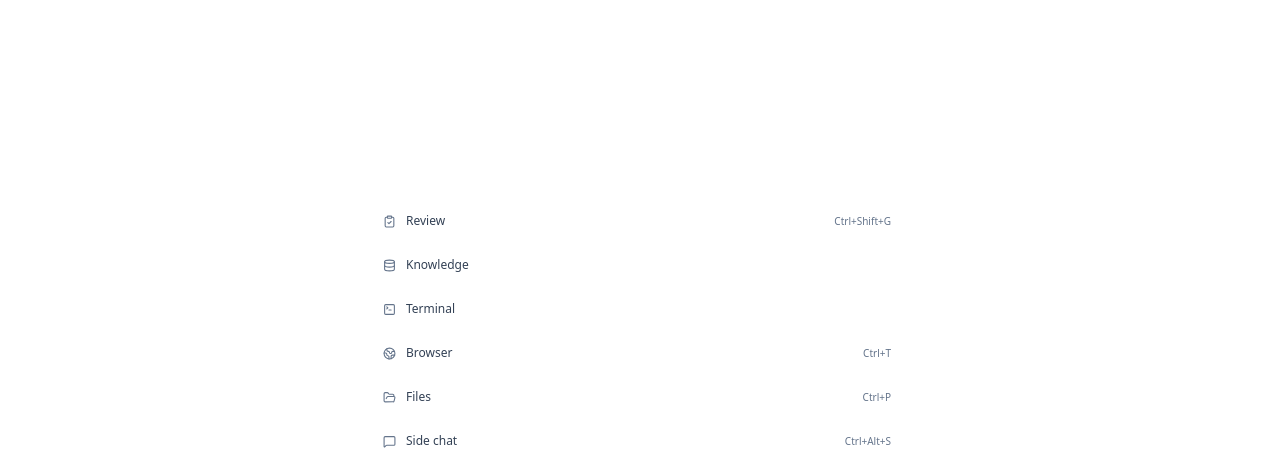
workspace panel › reviews every uncommitted file instead of filtering to the latest agent change set
The image size is (1280, 465).
What coordinates should you click on to do the following:
click the button "Review Ctrl+Shift+G"
I would click on:
 (426, 221)
Its box is [370,201,910,241].
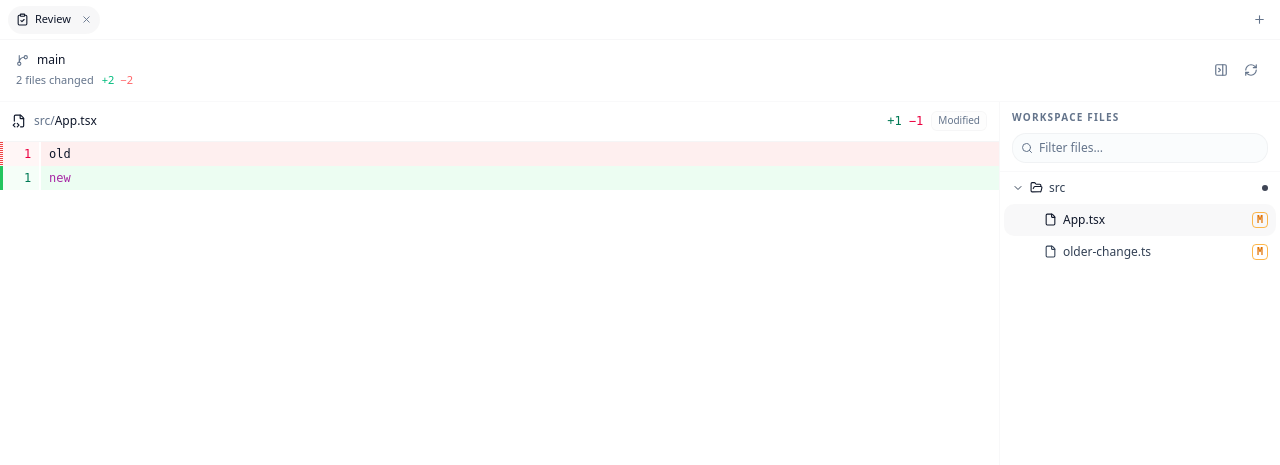
Expected: the text "2 files changed" is shown, [16,72,133,88]
Expected: the button with aria-label "File src/older-change.ts" is shown, [1004,236,1276,268]
